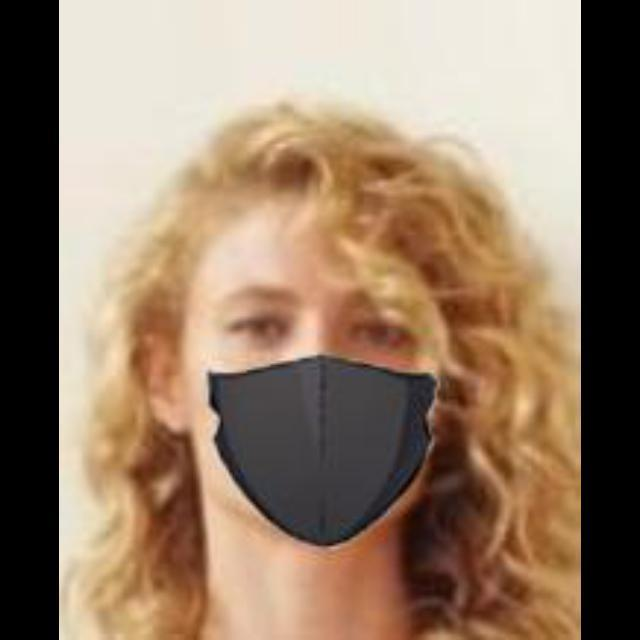suspicion: (131, 141, 453, 543)
